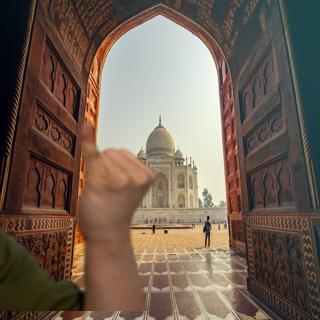FINE: (70, 118, 156, 242)
